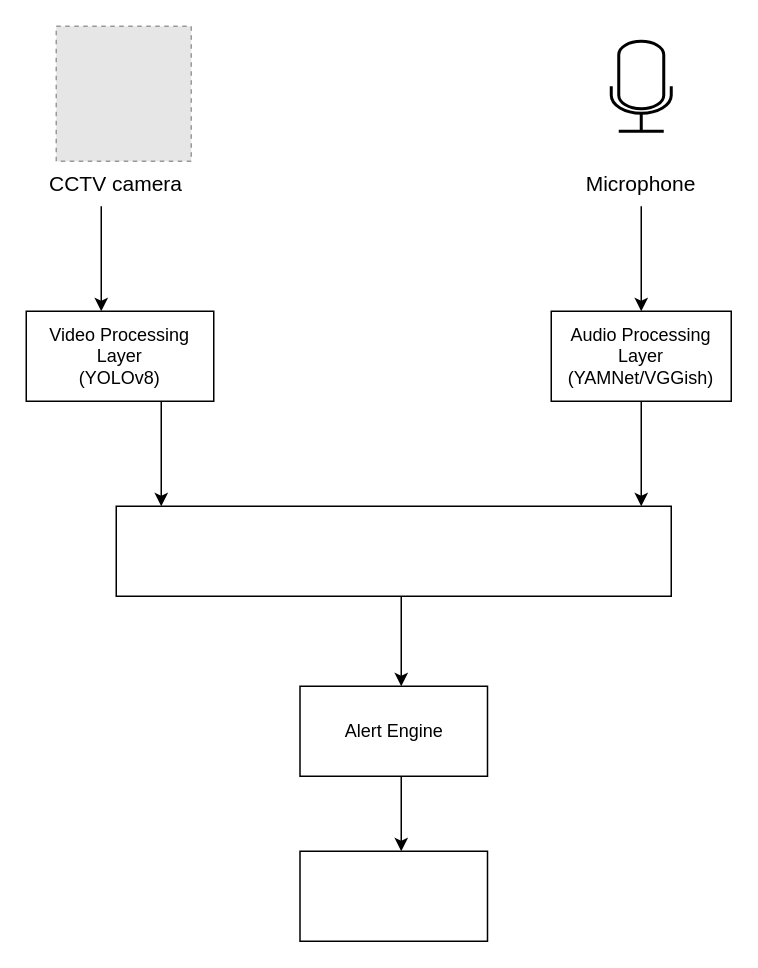
Some shapes in this 758 by 968 pixel diagram are drawn without their labels. Grey dashed boxes stand in for pictures. The shapes that lost their labels are listed below. From the top down, each one's centre as x and y in pixels, then its label:
At point 393,550: "Scene Understanding and processing layer".
At point 393,895: "Alert Dispatcher".
